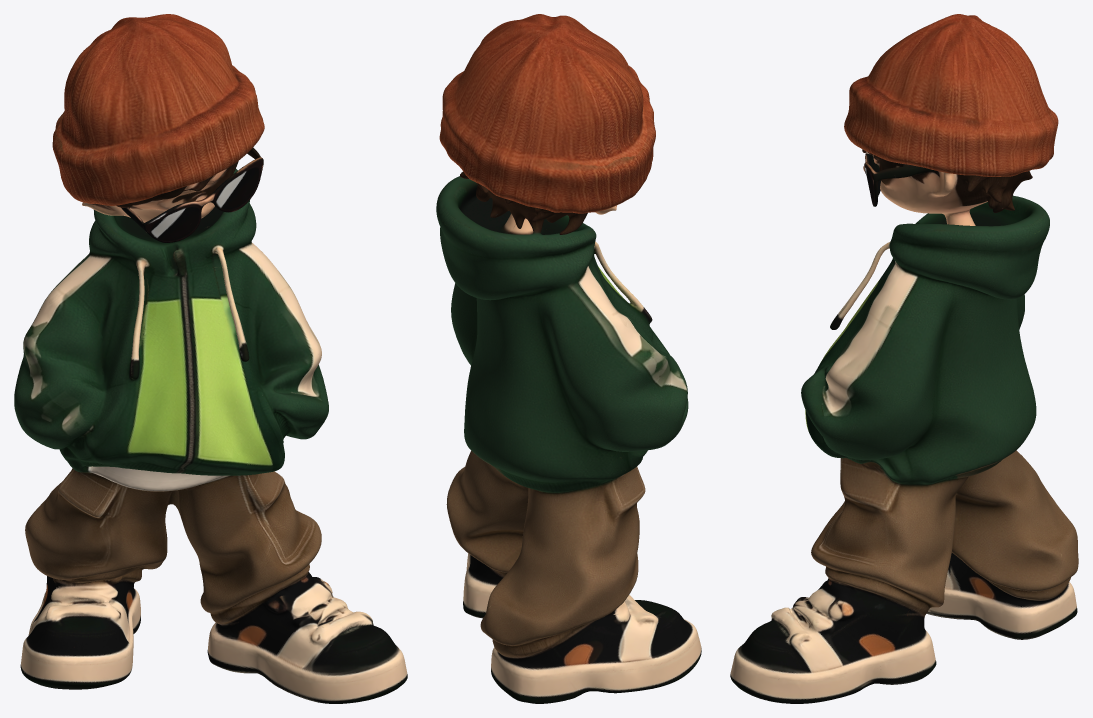
The model's file is character-textured.glb.
3 views of the same model, side by side, from view 1: azimuth 30°, elevation 25°; view 2: azimuth 150°, elevation 25°; view 3: azimuth 270°, elevation 25° (orthographic). The views are drawn at different scales.
Bounding box in the file's own units: 0.9206 × 1.9 × 0.9799.
Materials: 1 (1 with a texture image).
